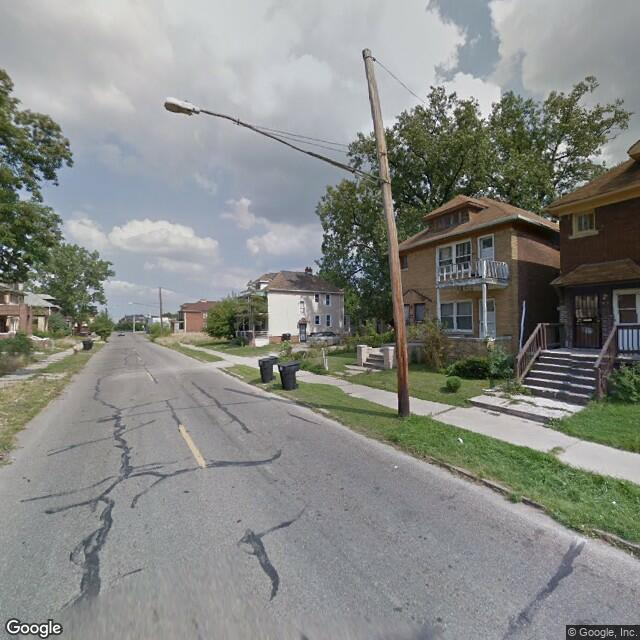litter: (457, 435, 465, 443), (394, 463, 398, 469)
